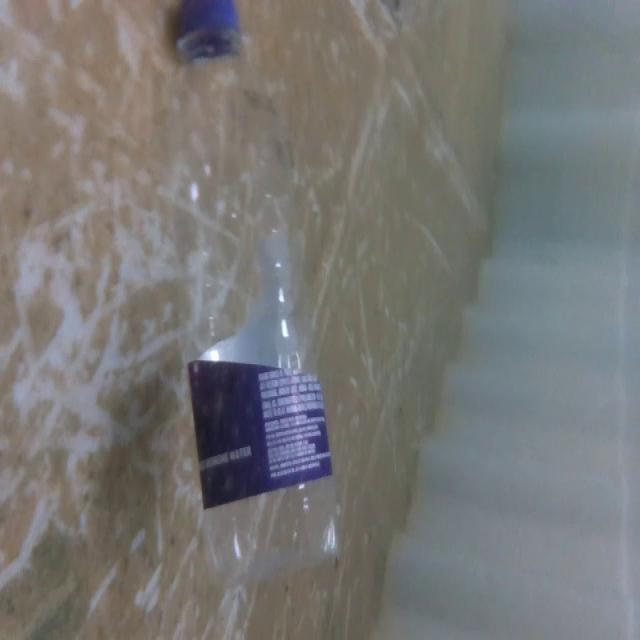plastic bottle: (152, 2, 342, 583)
